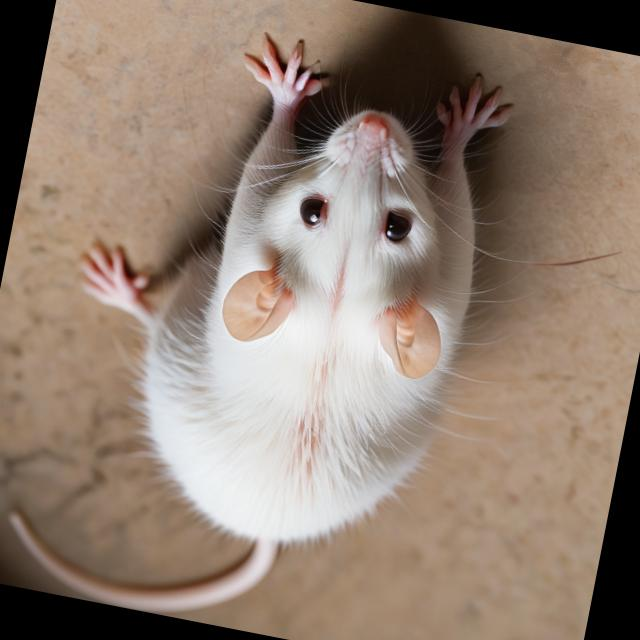rodents: (102, 45, 530, 596)
